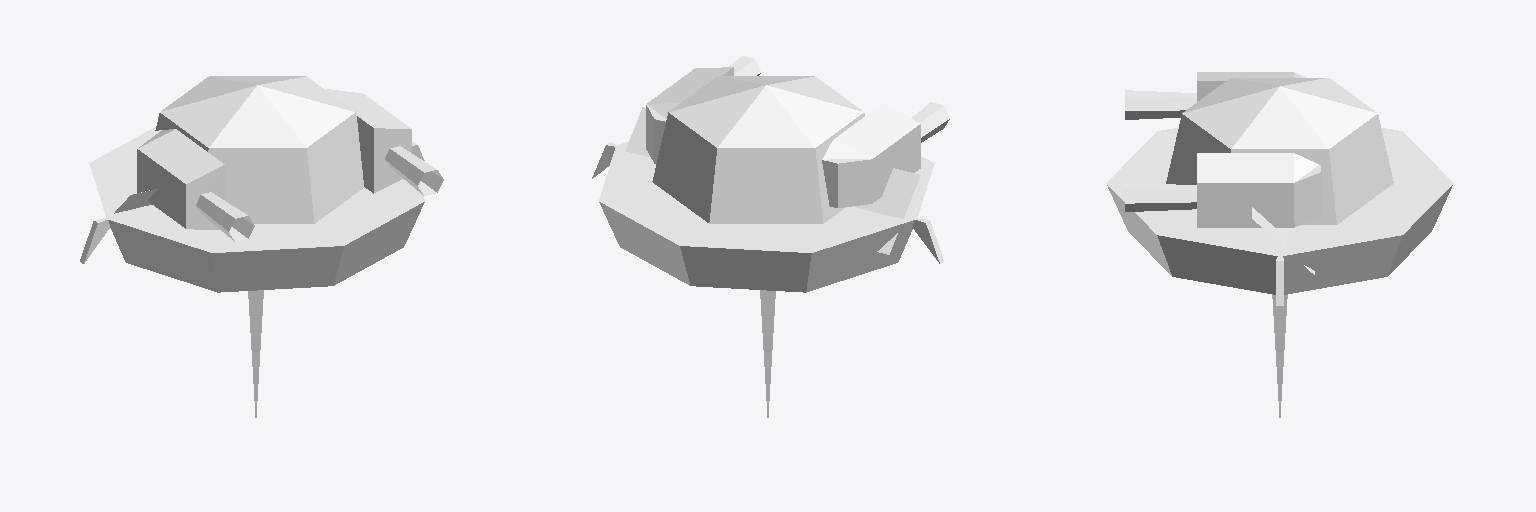
Rendered from acs04.obj.
3 renders of one model, left to right at view 1: azimuth 30°, elevation 25°; view 2: azimuth 150°, elevation 25°; view 3: azimuth 270°, elevation 25°, orthographic.
Visible parts, largest first — view 1: frm-cyl1, frm-turret, frm-rwepbas, frm-lwepbas, frm-cyl2, frm-cyl3, frm-tetra1, frm-cube1; view 2: frm-turret, frm-cyl1, frm-rwepbas, frm-lwepbas, frm-cube3, frm-tetra1, frm-cyl2, frm-cube1, frm-cube4; view 3: frm-cyl1, frm-turret, frm-lwepbas, frm-cyl3, frm-cyl2, frm-rwepbas, frm-tetra1.
Boxes of the visible parts, x1,y1,x2,y2 form: frm-cyl1: [89, 127, 424, 292]; frm-turret: [155, 76, 363, 223]; frm-rwepbas: [137, 129, 224, 229]; frm-lwepbas: [326, 89, 411, 193]; frm-cyl2: [196, 192, 254, 241]; frm-cyl3: [385, 146, 443, 195]; frm-tetra1: [248, 290, 263, 417]; frm-cube1: [80, 216, 115, 263]; frm-turret: [652, 76, 864, 223]; frm-cyl1: [599, 141, 934, 292]; frm-rwepbas: [822, 104, 920, 207]; frm-lwepbas: [646, 67, 733, 163]; frm-cube3: [852, 168, 920, 254]; frm-tetra1: [760, 290, 775, 417]; frm-cyl2: [911, 102, 949, 142]; frm-cube1: [908, 217, 943, 263]; frm-cube4: [626, 107, 649, 156]; frm-cyl1: [1106, 127, 1453, 294]; frm-turret: [1166, 78, 1393, 224]; frm-lwepbas: [1197, 153, 1320, 227]; frm-cyl3: [1125, 182, 1196, 211]; frm-cyl2: [1125, 90, 1196, 119]; frm-rwepbas: [1197, 72, 1306, 101]; frm-tetra1: [1272, 294, 1287, 417].
Size of the model in its own units: 15.58 by 14.56 by 13.46.